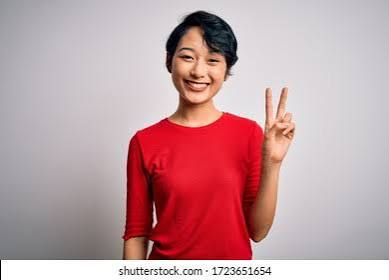peace_sign: (260, 81, 300, 164)
